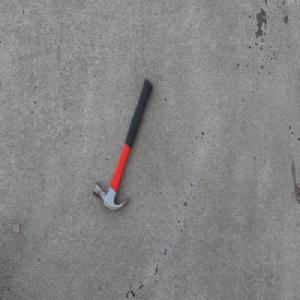Hammer: (92, 77, 153, 212)
